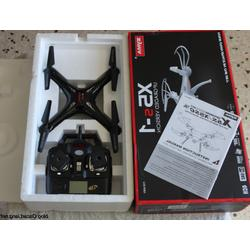drone: (39, 41, 123, 154)
